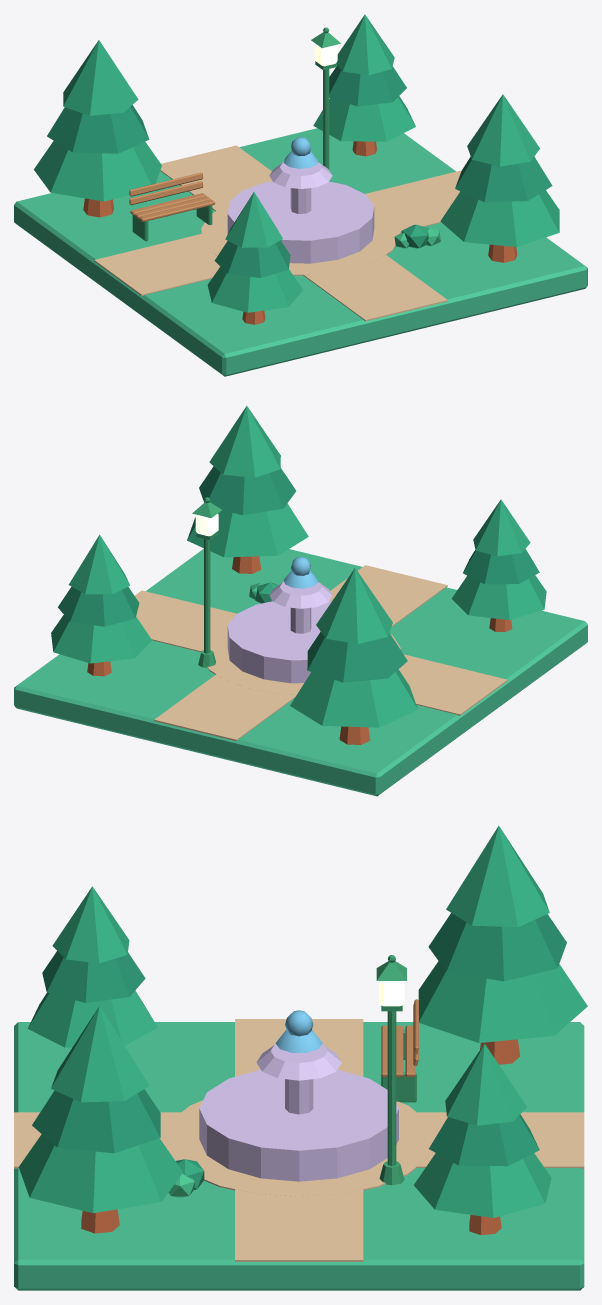
Rendered from lot_park.glb.
3 renders of one model, top to bottom at view 1: azimuth 30°, elevation 25°; view 2: azimuth 150°, elevation 25°; view 3: azimuth 270°, elevation 25°, orthographic. The views are drawn at different scales.
Parts seen in each view (by area): view 1: lot_park; view 2: lot_park; view 3: lot_park.
Boxes of the visible parts, bbox=[...] form: lot_park: bbox=[14, 14, 587, 376]; lot_park: bbox=[14, 406, 587, 796]; lot_park: bbox=[14, 825, 587, 1290].
Bounding box in the file's own units: 8.02 × 4.06 × 8.05.
